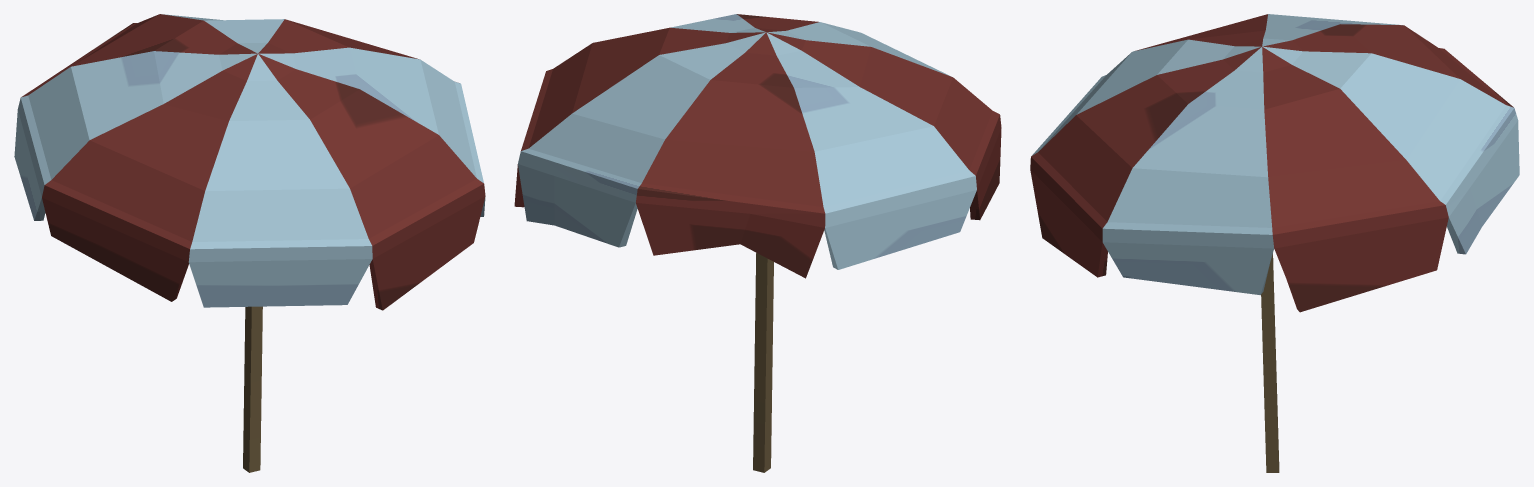
Rendered from SM_Prop_Umbrella_02.glb.
The picture shows the model from 3 angles, left to right: view 1: azimuth 30°, elevation 25°; view 2: azimuth 150°, elevation 25°; view 3: azimuth 270°, elevation 25°; orthographic projection. The views are drawn at different scales.
Visible parts, largest first — view 1: SM_Prop_Umbrella_02; view 2: SM_Prop_Umbrella_02; view 3: SM_Prop_Umbrella_02.
Boxes of the visible parts, left/top/right/bottom form: SM_Prop_Umbrella_02: left=14, top=14, right=485, bottom=472; SM_Prop_Umbrella_02: left=514, top=14, right=1001, bottom=472; SM_Prop_Umbrella_02: left=1030, top=14, right=1519, bottom=472.
Bounding box in the file's own units: 2.4 × 2.29 × 2.39.
Materials: 1 (1 with a texture image).
